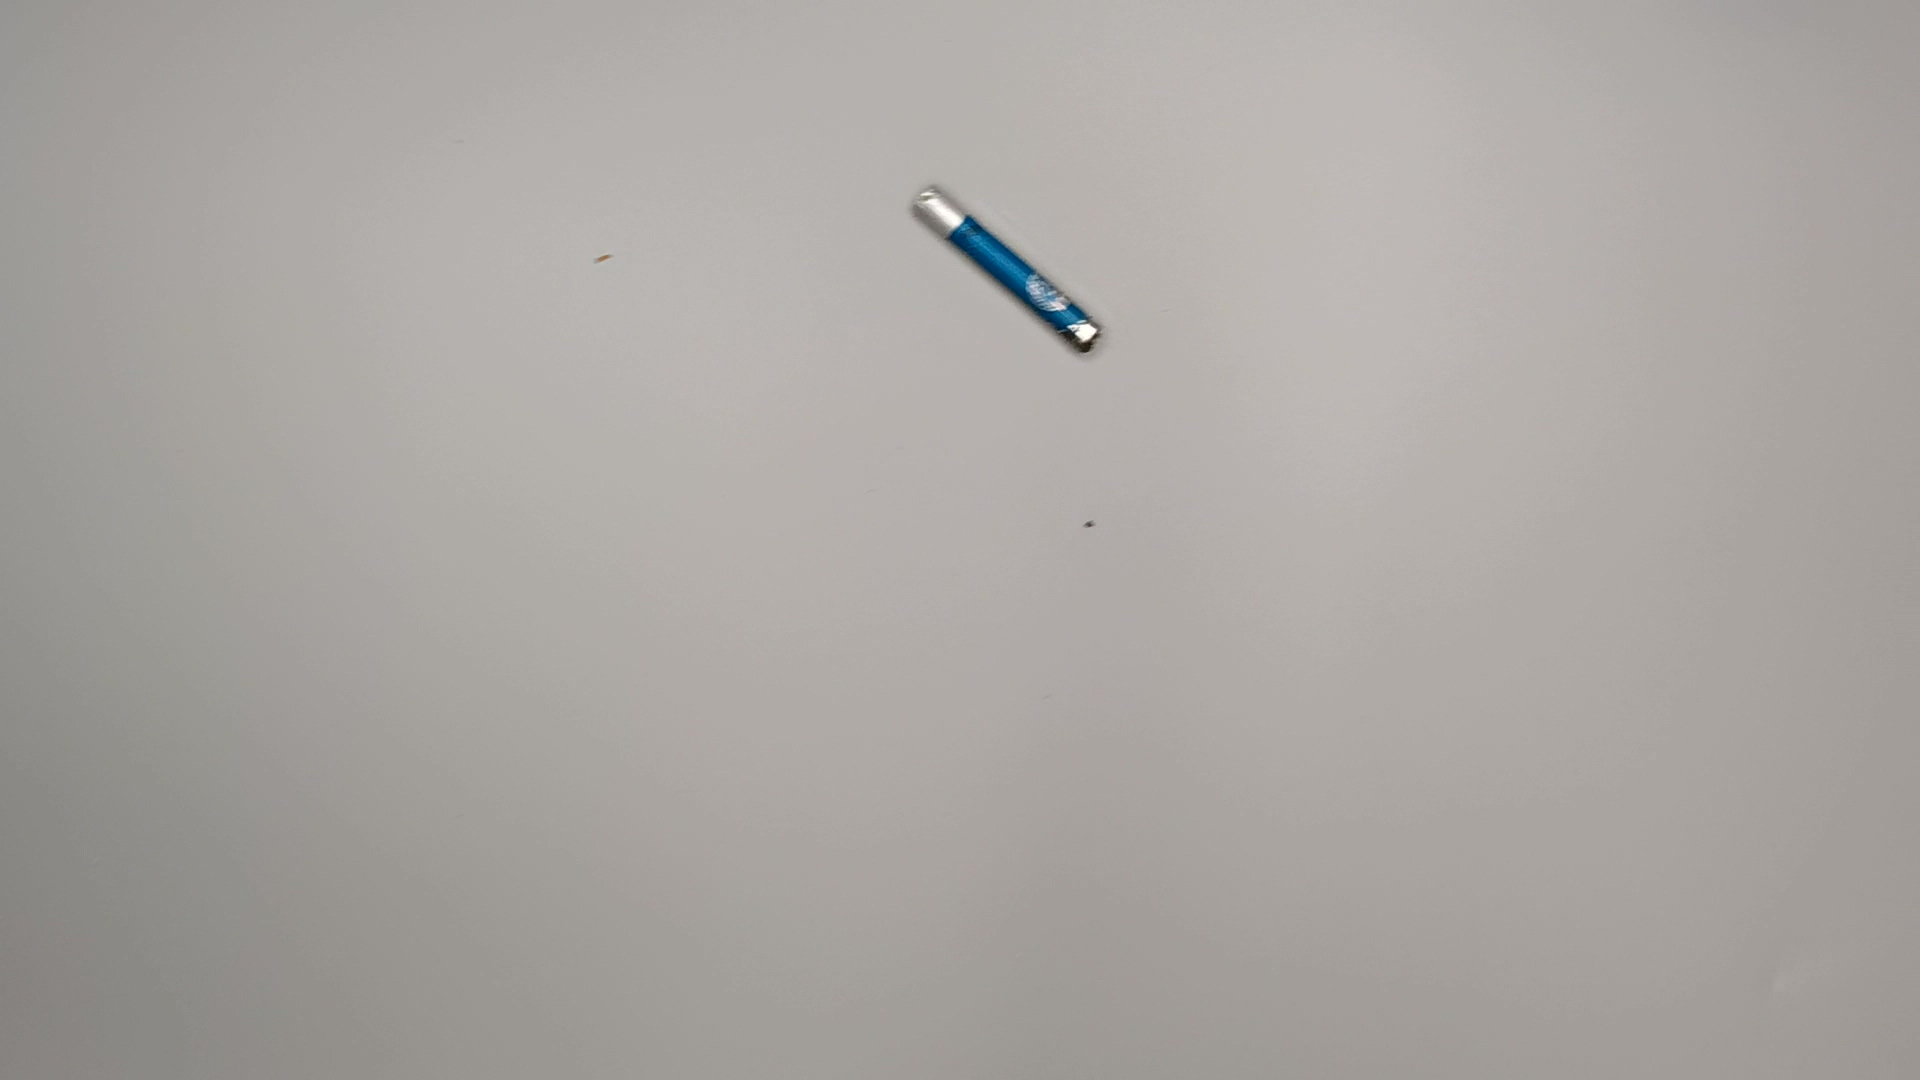cigarette: (911, 179, 1114, 371)
